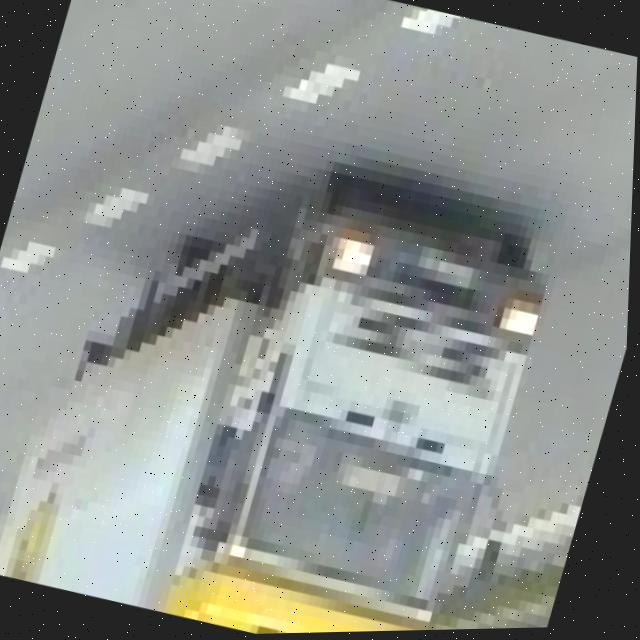truck: (0, 136, 596, 640)
